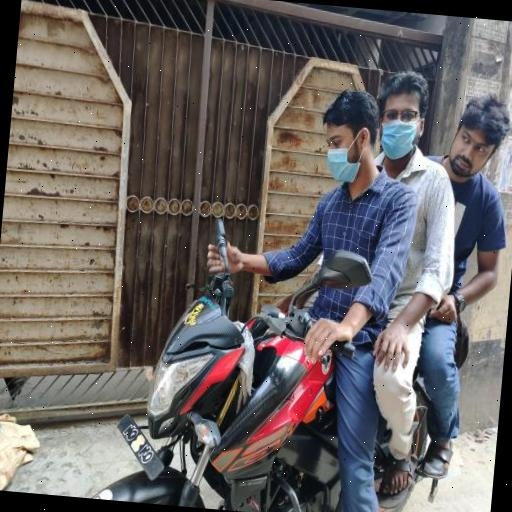no helmet: (306, 72, 394, 203)
triple riding: (117, 37, 512, 512)
